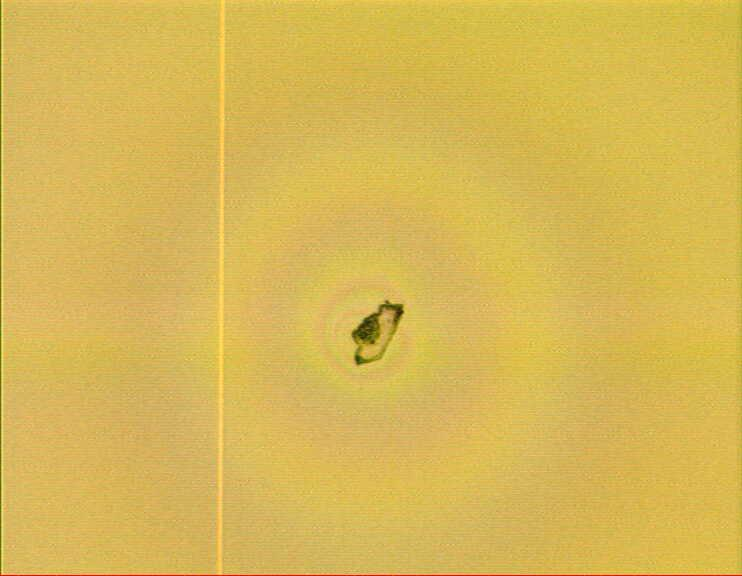PARTICLE: (350, 296, 410, 370)
